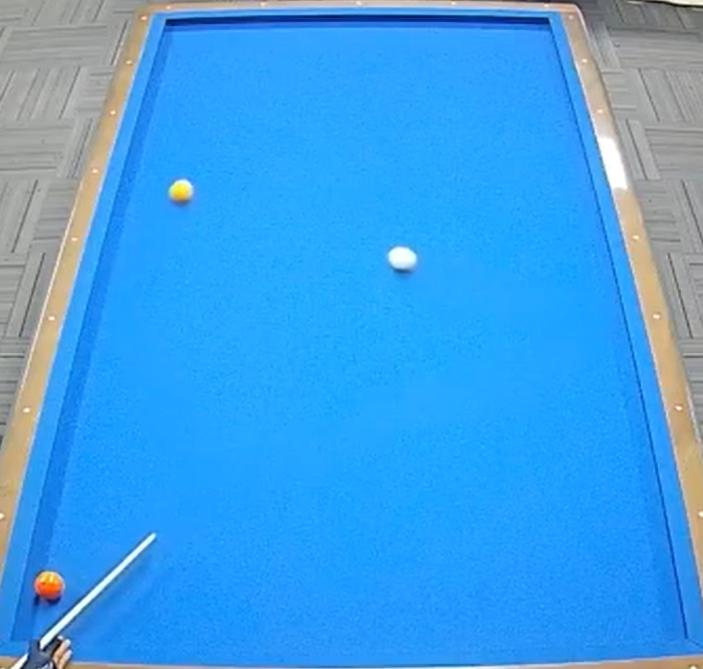orange ball: (33, 567, 73, 605)
white ball: (384, 239, 425, 280)
yellow ball: (164, 176, 202, 209)
